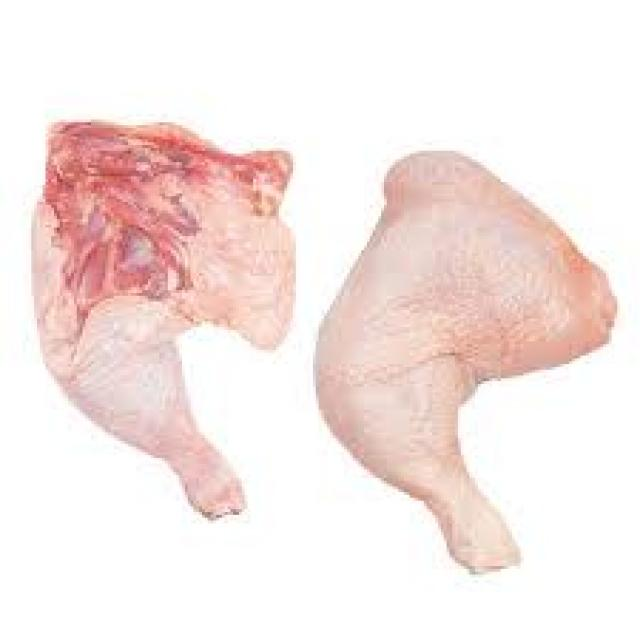chicken: (319, 154, 617, 573), (34, 122, 296, 521)
